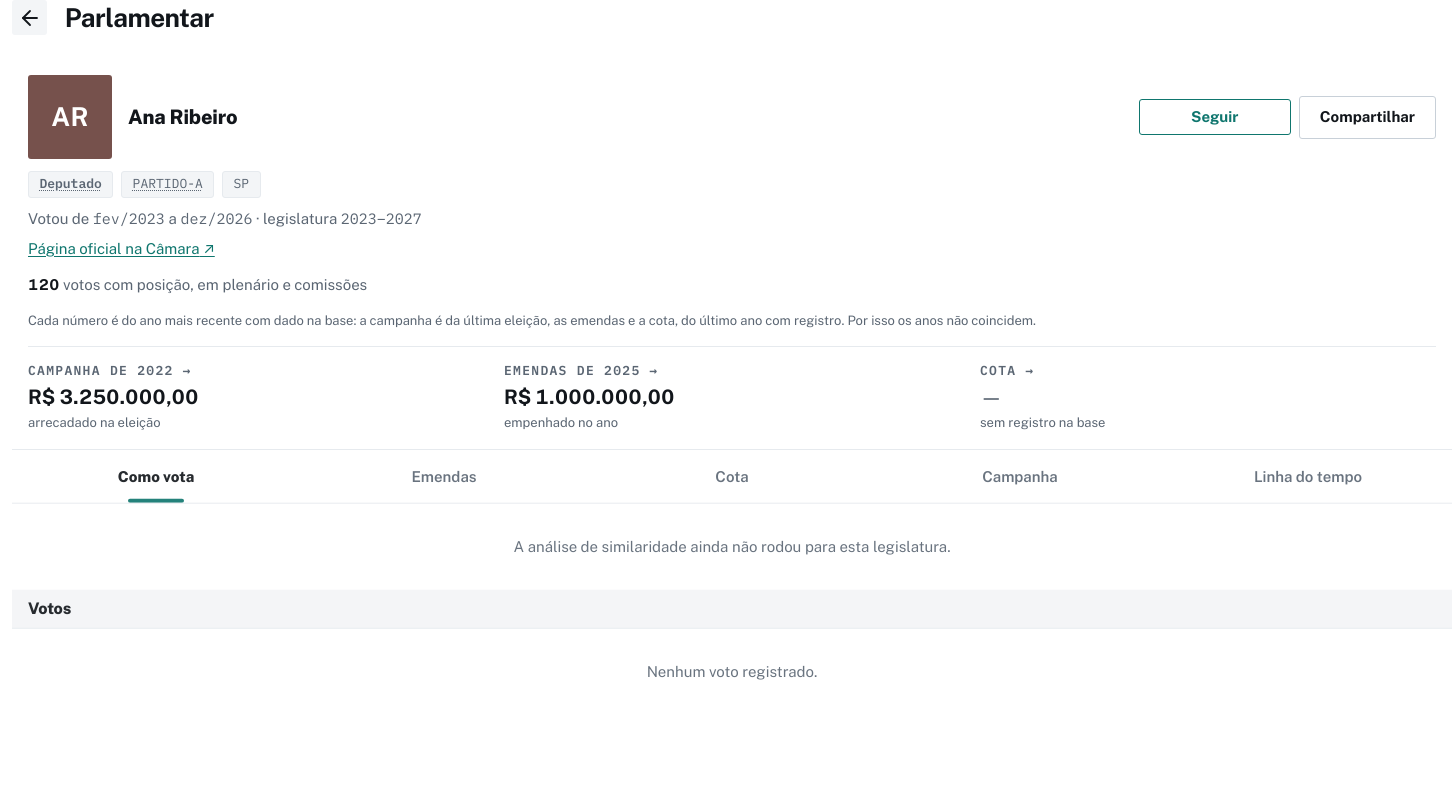
it: redes e patrimônio › a declaração fora do padrão aparece como veio, em vermelho, com o aviso de que o site não confere
Click the link "Campanha".
click(1020, 476)  # box [982, 468, 1058, 485]
(page scrolled)
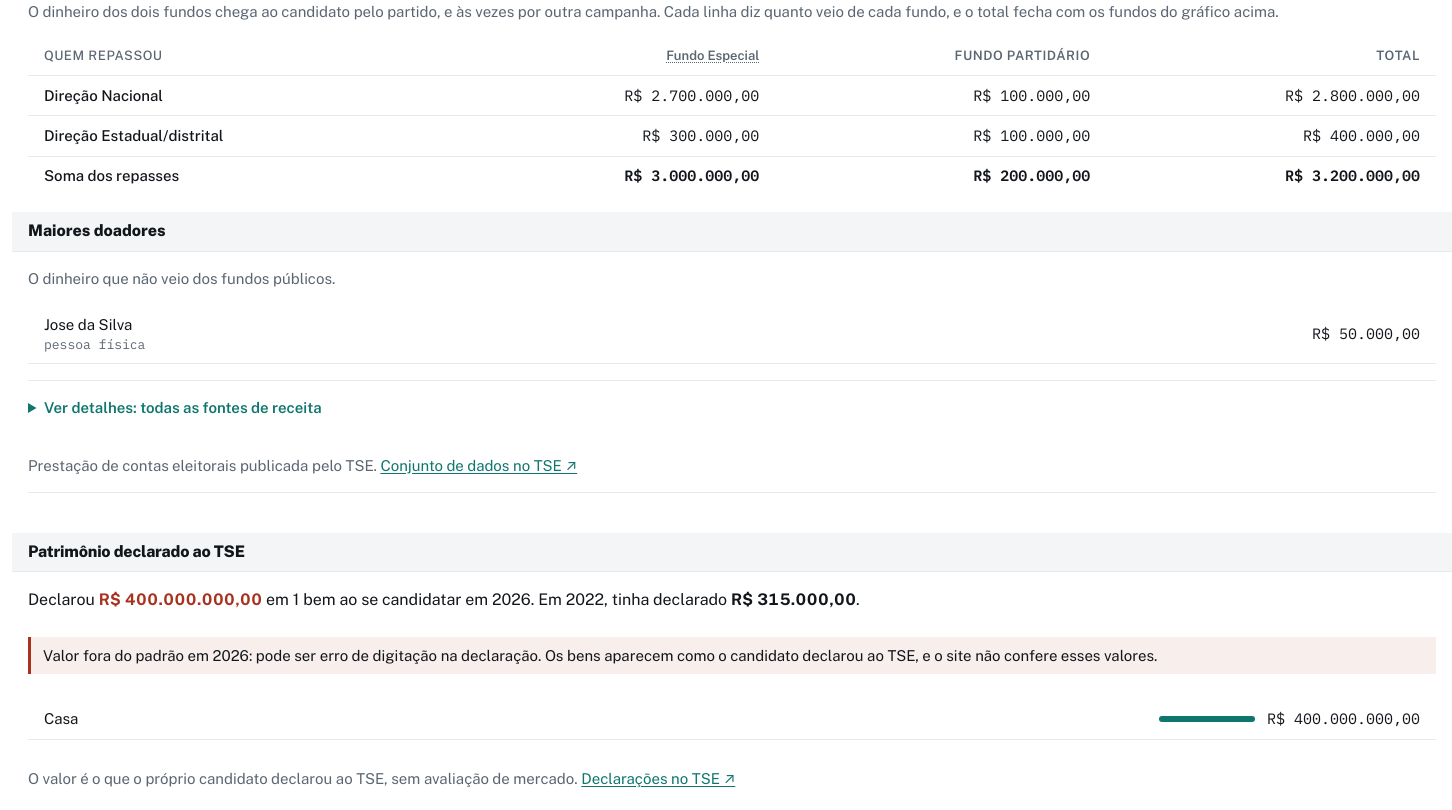
Result: the text with class "numero-fora-do-padrao" shows "400.000.000,00" at [99, 590, 262, 609]
